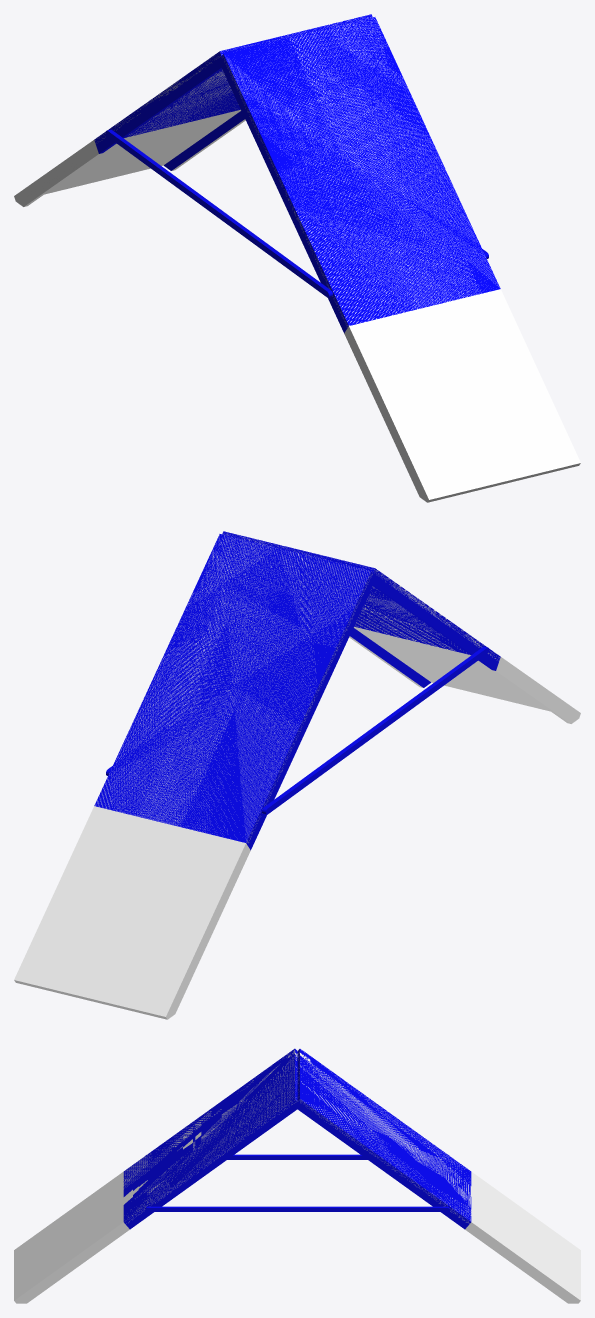
The model's file is Contact-1.dae.
3 views of the same model, one above another, from view 1: azimuth 30°, elevation 25°; view 2: azimuth 150°, elevation 25°; view 3: azimuth 270°, elevation 25° (orthographic). The views are drawn at different scales.
Parts seen in each view (by area): view 1: side (×4), edge; view 2: side (×4), edge; view 3: side (×4), edge (×2).
Boxes of the visible parts, x1,y1,x2,y2 form: side (×4): (14,14,580,502); edge: (106,129,332,297); side (×4): (14,531,580,1019); edge: (262,646,488,814); side (×4): (14,1048,580,1303); edge (×2): (145,1154,449,1211).
Size of the model in its own units: 37.95 by 170 by 67.85.
